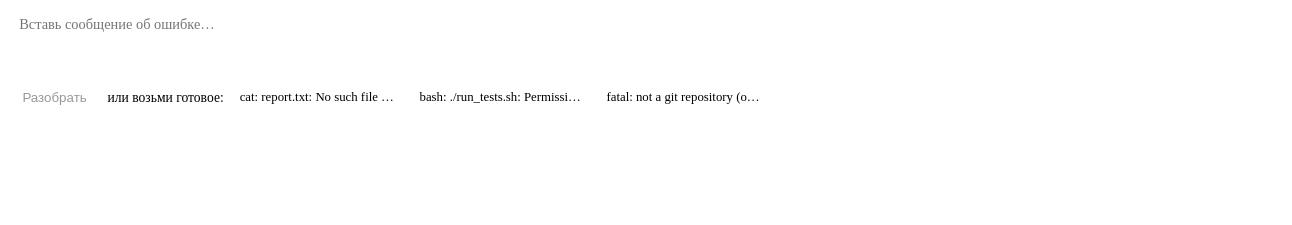
Test case: parses pasted text: known words highlighted, paths dimmed, counter correct
Type "cat: report.txt: No such file or directory" into the text box with placeholder "Вставь сообщение об ошибке…" at (644, 42), box left=8, top=8, right=1280, bottom=75
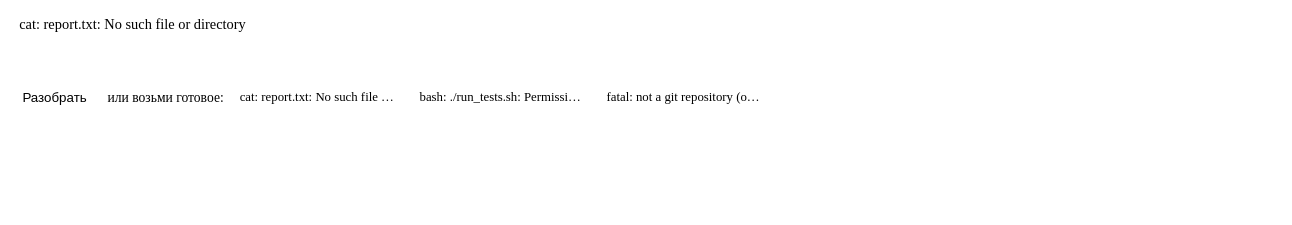
Click the button "Разобрать" at (55, 98), box left=8, top=85, right=101, bottom=111
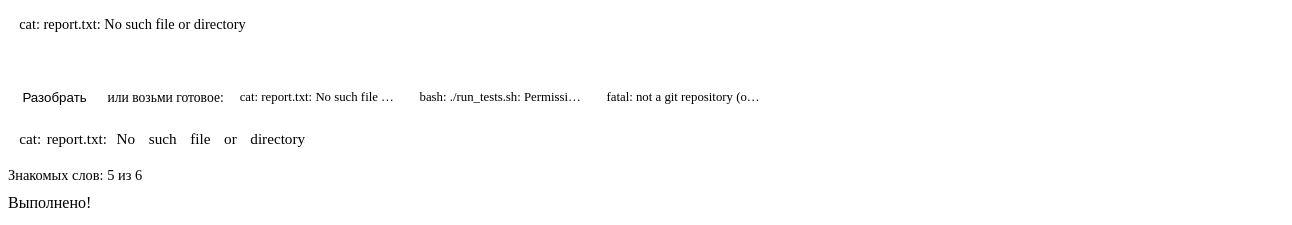
Result: the button "directory" is shown at left=246, top=130, right=309, bottom=148
Result: the text "Знакомых слов: 5 из 6" is shown at left=8, top=167, right=142, bottom=183
